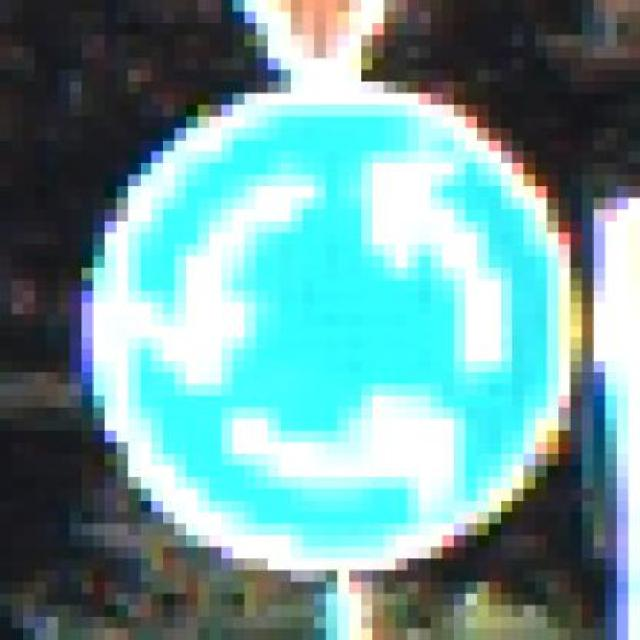Round-About: (58, 47, 594, 605)
